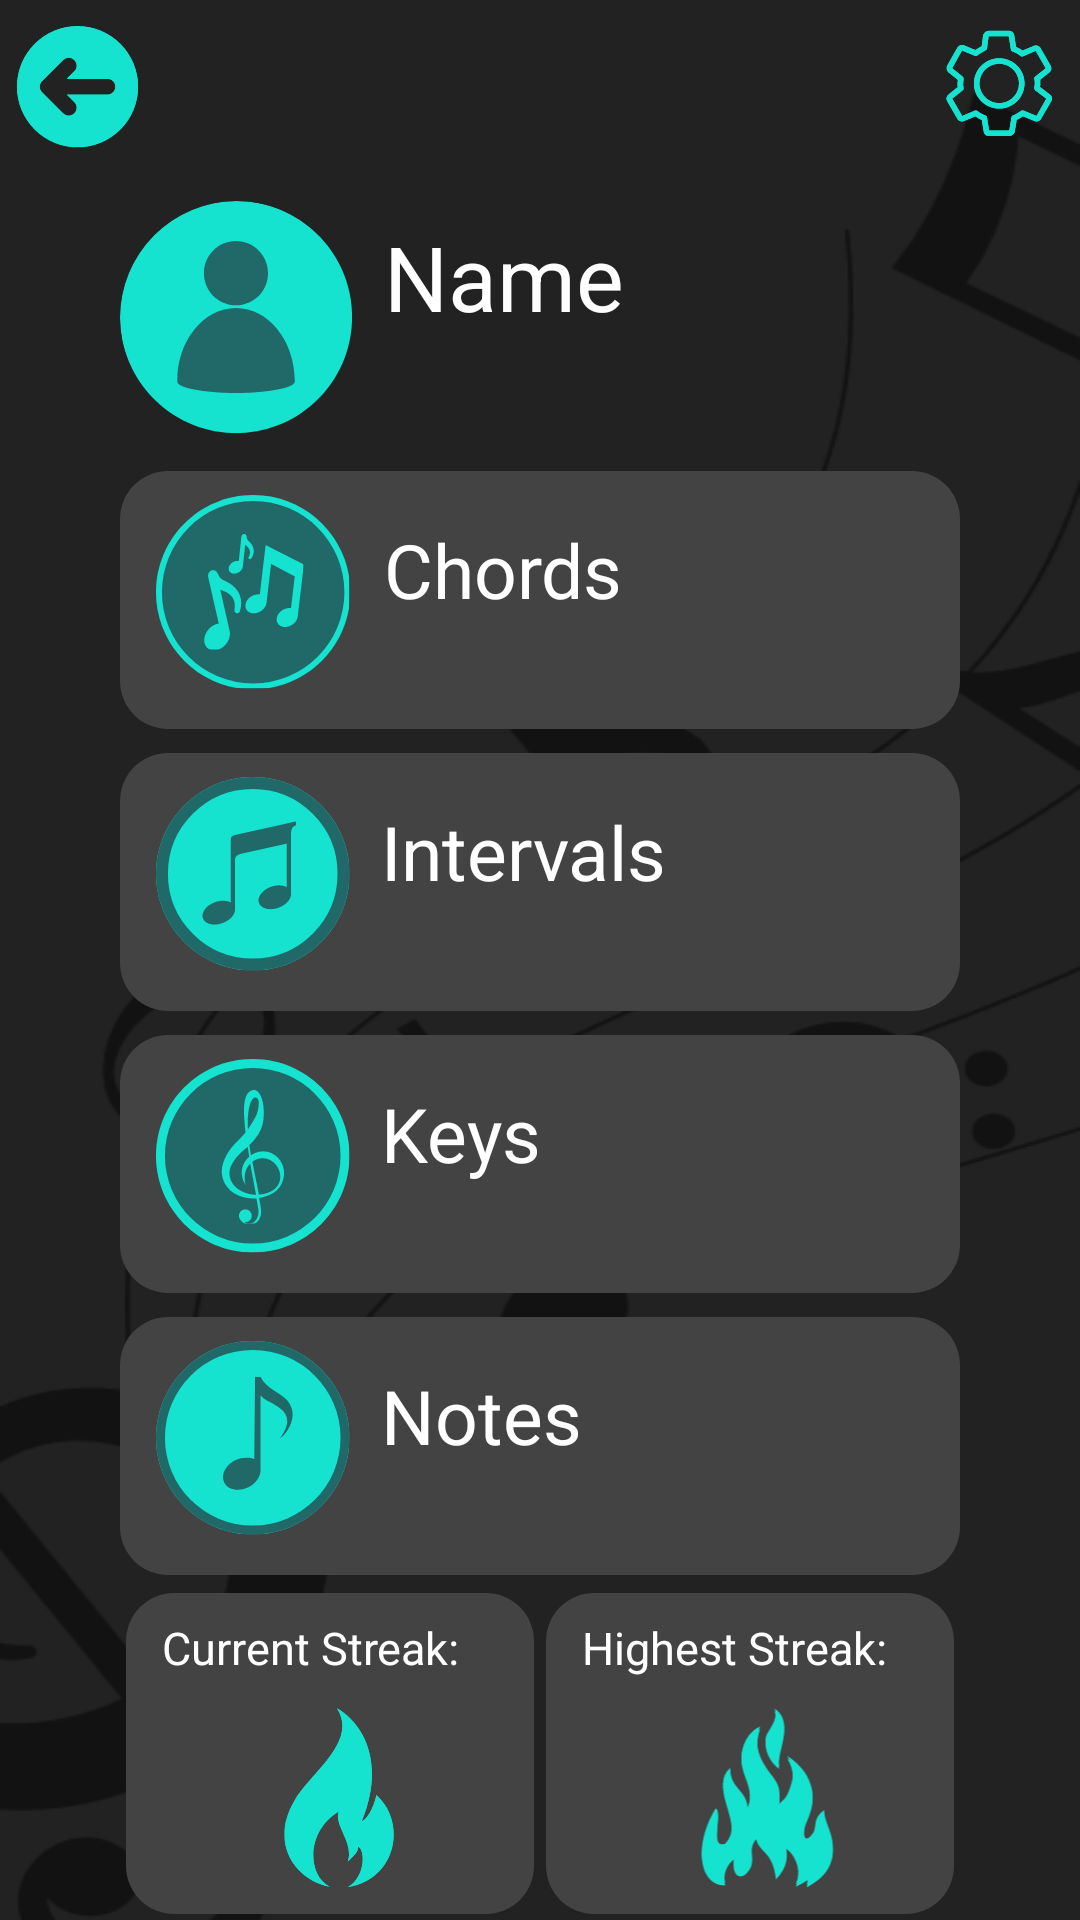

Screen size 1080x1920. Icon name, then its center in pixels as point (x, y):
back: point (77, 87)
fire: point (339, 1797), point (767, 1798)
profile: point (236, 317)
settings: point (999, 83)
